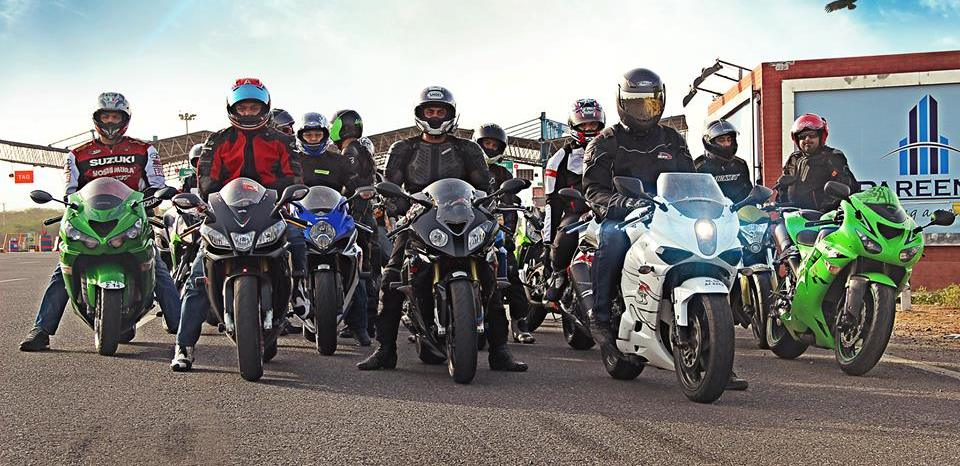with_helmet: (617, 68, 669, 128), (224, 75, 274, 133), (416, 84, 458, 142), (91, 91, 136, 142), (792, 115, 831, 145)
